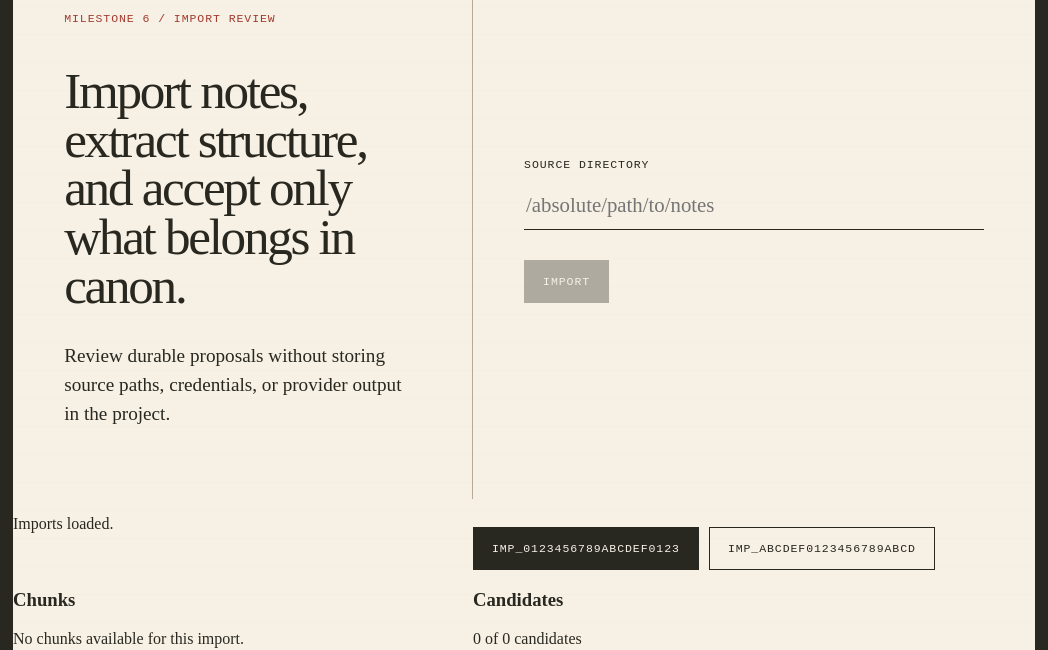
ignores a stale chunk response after import selection changes
Click the button "imp_abcdef0123456789abcd" at {"x": 822, "y": 549}, box [709,527,935,570]
(page scrolled)
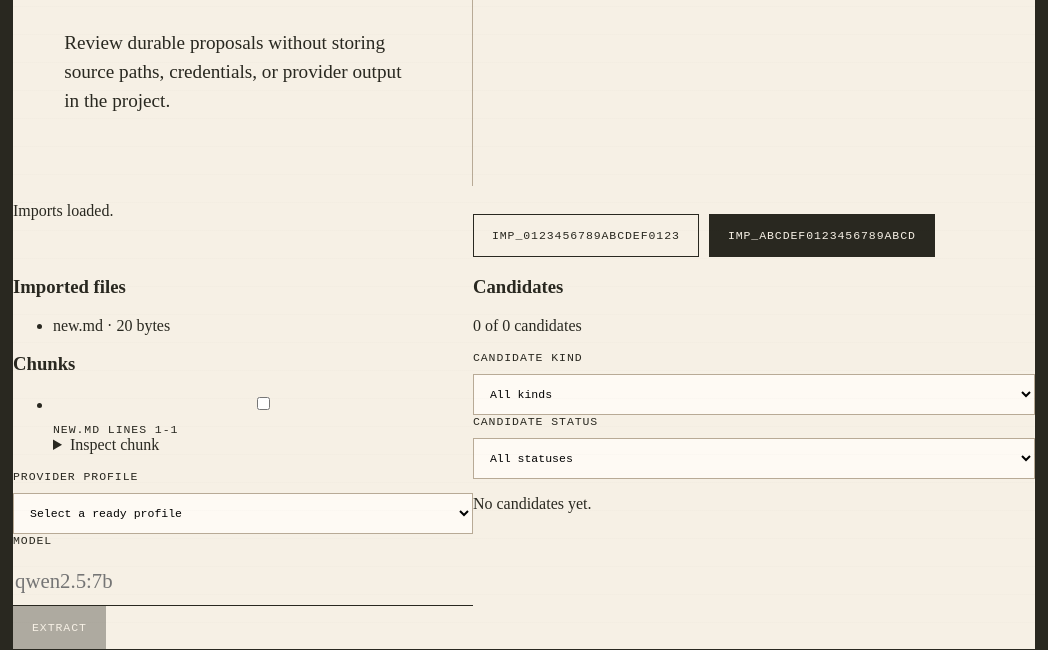
Result: the checkbox labelled "new.md lines 1-1" is shown at [57,397,470,410]
